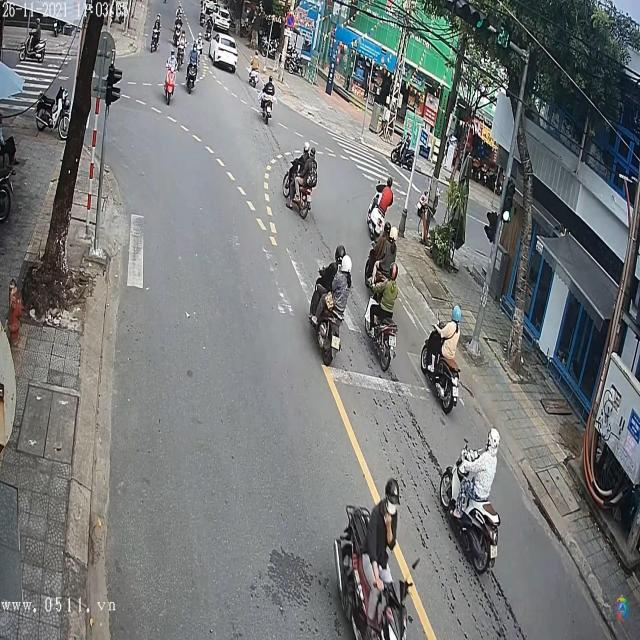car: (208, 33, 241, 72)
motorcycle: (439, 442, 501, 575), (307, 261, 342, 372), (420, 316, 458, 413), (363, 280, 398, 375), (283, 153, 312, 224), (390, 138, 415, 172), (162, 64, 178, 109), (185, 55, 197, 97), (259, 98, 274, 127), (149, 22, 161, 54), (247, 64, 260, 91)
